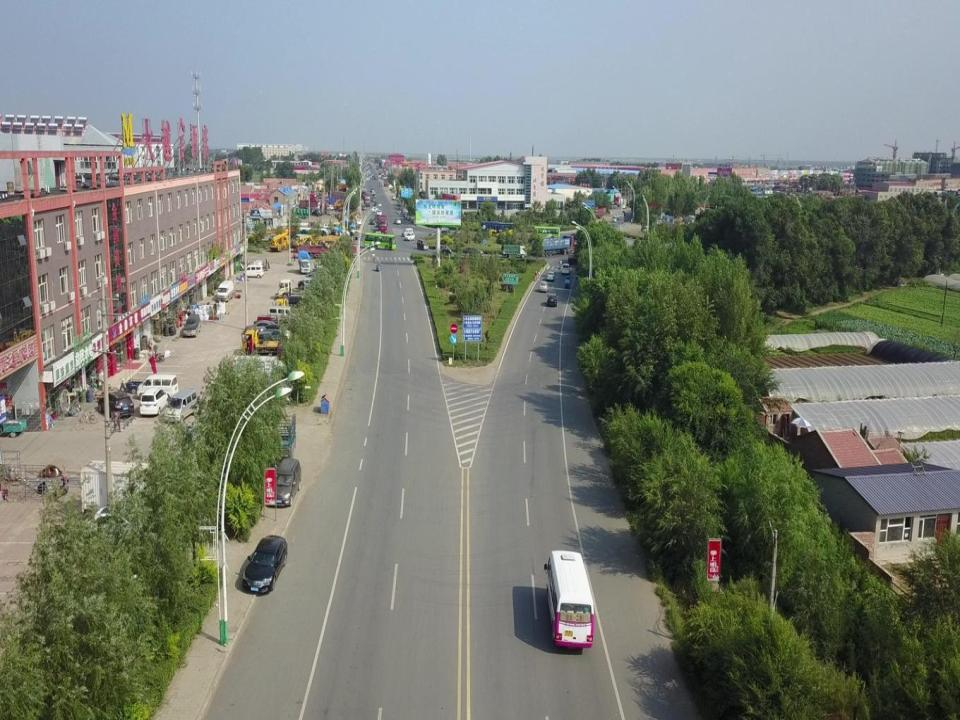bus: (542, 550, 594, 648), (292, 227, 330, 247), (364, 232, 396, 250), (532, 226, 560, 239)
car: (243, 532, 287, 596), (98, 392, 134, 420), (138, 374, 178, 398), (140, 383, 168, 415), (246, 321, 286, 336), (463, 247, 484, 257), (546, 294, 558, 307), (417, 239, 429, 250), (429, 230, 442, 238), (404, 232, 415, 241), (562, 263, 570, 275), (437, 227, 450, 234), (546, 271, 555, 281), (394, 217, 401, 224), (369, 218, 375, 225), (376, 208, 381, 215), (327, 205, 334, 210), (326, 209, 331, 215), (392, 195, 395, 200)
truck: (243, 329, 298, 355), (300, 241, 355, 260), (532, 234, 574, 255), (279, 279, 315, 301), (272, 298, 304, 318), (501, 244, 527, 259), (298, 251, 310, 273), (378, 216, 387, 234)
van: (270, 458, 302, 506), (165, 387, 198, 424), (268, 304, 300, 323), (184, 314, 200, 338), (217, 281, 233, 302), (244, 264, 264, 278), (540, 280, 548, 292), (401, 228, 413, 236)
